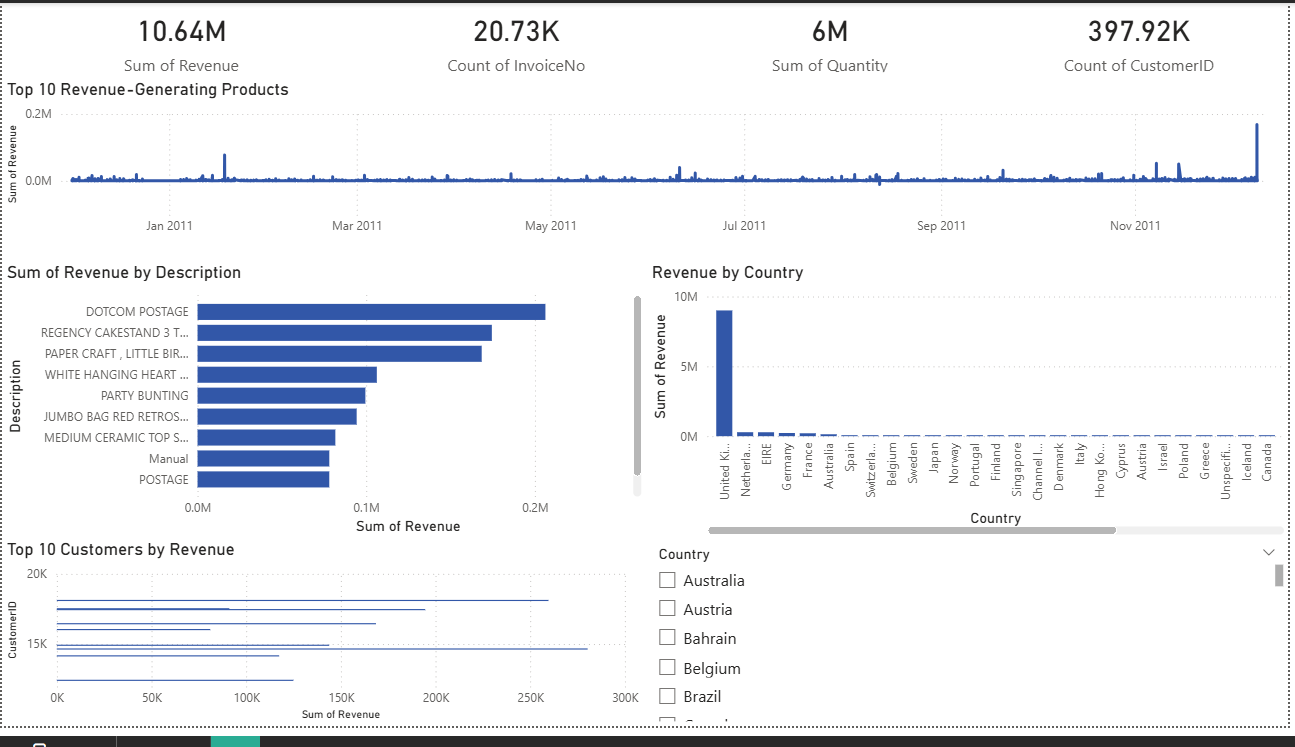

What the dashboard file says about the page in this screenshot:
{"tool":"powerbi","page":{"name":"Page 1","canvas":[1280,720],"ordinal":0},"visuals":[{"type":"card","fields":{"Values":["Sum(online_retail.Revenue)"]},"box":[0,0,357.7,73.9],"z":0},{"type":"card","fields":{"Values":["Count(online_retail.InvoiceNo)"]},"box":[357.7,0,307.6,73.9],"z":1},{"type":"card","fields":{"Values":["Sum(online_retail.Quantity)"]},"box":[665.3,0,317.1,73.9],"z":2},{"type":"card","fields":{"Values":["CountNonNull(online_retail.CustomerID)"]},"box":[982.4,0,298.1,73.9],"z":3},{"type":"lineChart","title":"Top 10 Revenue-Generating Products","fields":{"Category":["online_retail.InvoiceDate"],"Y":["Sum(online_retail.Revenue)"]},"box":[0,76.3,1280.5,164.5],"z":4},{"type":"clusteredBarChart","fields":{"Y":["Sum(online_retail.Revenue)"],"Category":["online_retail.Description"]},"box":[0,257.5,641.4,276.6],"z":5},{"type":"clusteredColumnChart","title":"Revenue by Country","fields":{"Y":["Sum(online_retail.Revenue)"],"Category":["online_retail.Country"]},"box":[641.4,257.5,639,276.6],"z":6},{"type":"clusteredBarChart","title":"Top 10 Customers by Revenue","fields":{"Y":["Sum(online_retail.Revenue)"],"Category":["online_retail.CustomerID"]},"box":[0,534.1,639,186],"z":7},{"type":"slicer","fields":{"Values":["online_retail.Country"]},"box":[641,535,639,185],"z":8}]}

Visuals, with their boxes on the page's 1280x720 design canvas (x1, y1, x2, y2). These are canvas units, not pixel positions in the 1295x747 screenshot, which may show the page scaled, cropped or inside an application window:
card - Sum(online_retail.Revenue): select_region(0, 0, 358, 74)
card - Count(online_retail.InvoiceNo): select_region(358, 0, 665, 74)
card - Sum(online_retail.Quantity): select_region(665, 0, 982, 74)
card - CountNonNull(online_retail.CustomerID): select_region(982, 0, 1280, 74)
"Top 10 Revenue-Generating Products" lineChart: select_region(0, 76, 1280, 241)
clusteredBarChart - Sum(online_retail.Revenue) x online_retail.Description: select_region(0, 258, 641, 534)
"Revenue by Country" clusteredColumnChart: select_region(641, 258, 1280, 534)
"Top 10 Customers by Revenue" clusteredBarChart: select_region(0, 534, 639, 720)
slicer - online_retail.Country: select_region(641, 535, 1280, 720)
